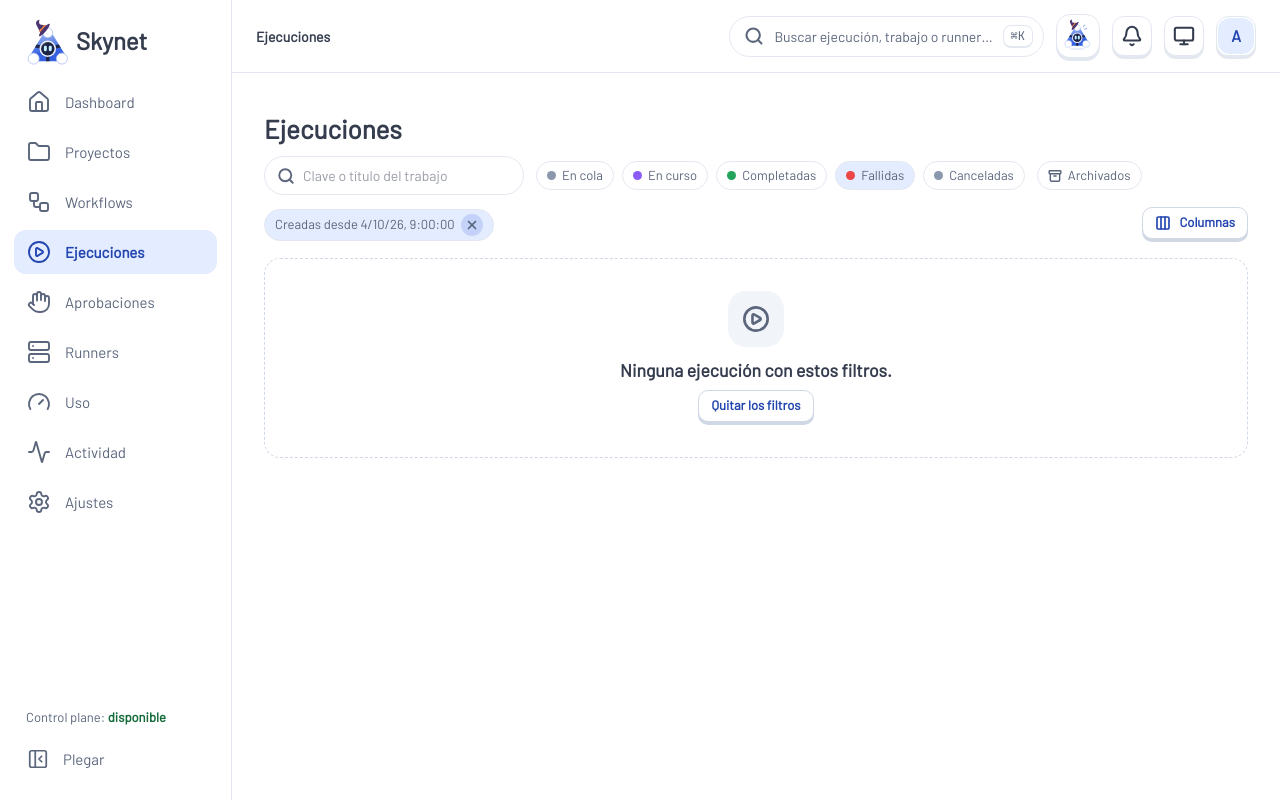
App › la lista de ejecuciones filtra por fecha de creación y se puede quitar
The image size is (1280, 800).
Expected: the text "Creadas desde 4/10/26, 9:00:00" is shown, [264, 209, 494, 241]
Expected: the text "Ninguna ejecución con estos filtros." is shown, [620, 357, 892, 384]
Click the button named "Quitar el filtro de fecha" at point(472, 225), box [461, 214, 483, 236]
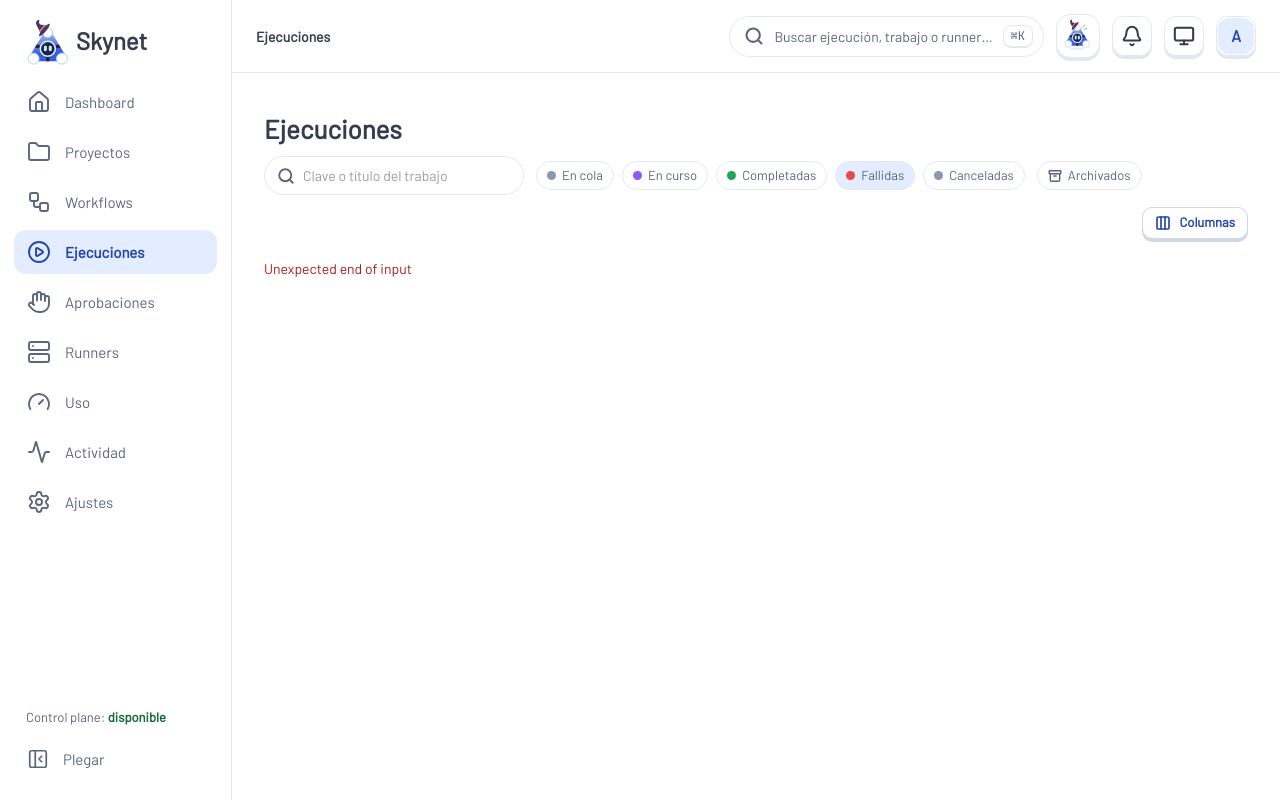
Now the text "Creadas desde" is gone
